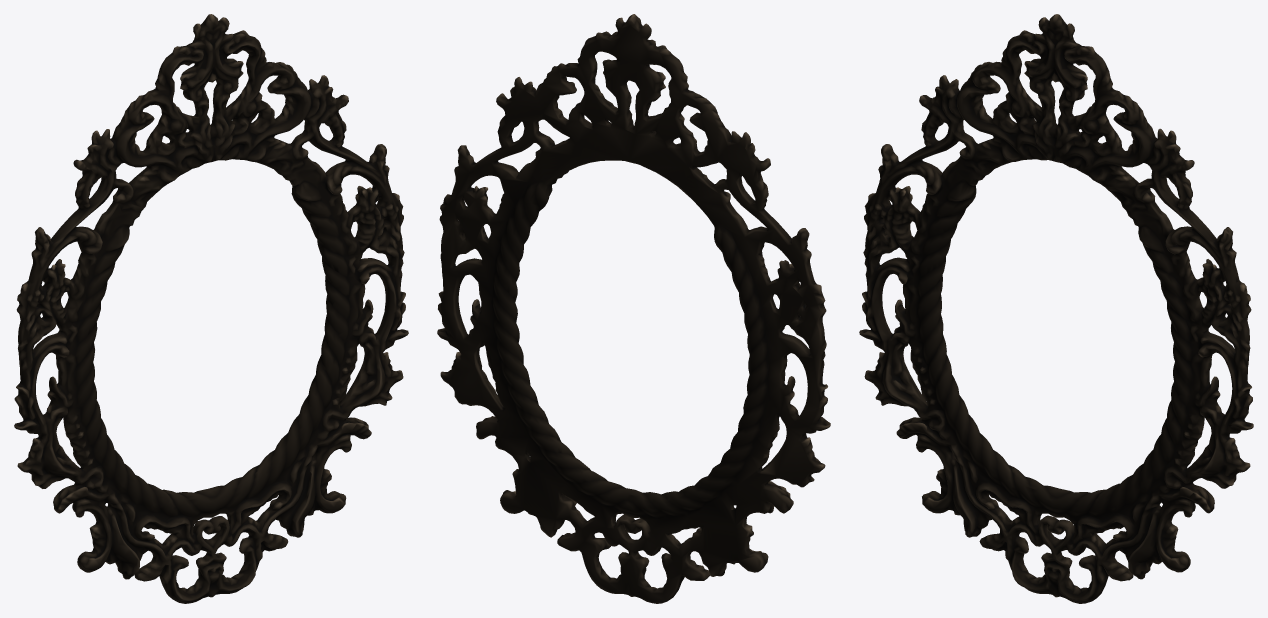
Rendered from Soikeat kehykset.fbx.
3 views of the same model, side by side, from view 1: azimuth 30°, elevation 25°; view 2: azimuth 150°, elevation 25°; view 3: azimuth 330°, elevation 25° (orthographic).
Parts seen in each view (by area): view 1: Soikiot kehykset; view 2: Soikiot kehykset; view 3: Soikiot kehykset.
Boxes of the visible parts, x1=… form: Soikiot kehykset: x1=14, y1=14, x2=408, y2=603; Soikiot kehykset: x1=437, y1=14, x2=830, y2=603; Soikiot kehykset: x1=859, y1=14, x2=1253, y2=603.
Size of the model in its own units: 50.04 by 71.04 by 3.37.
